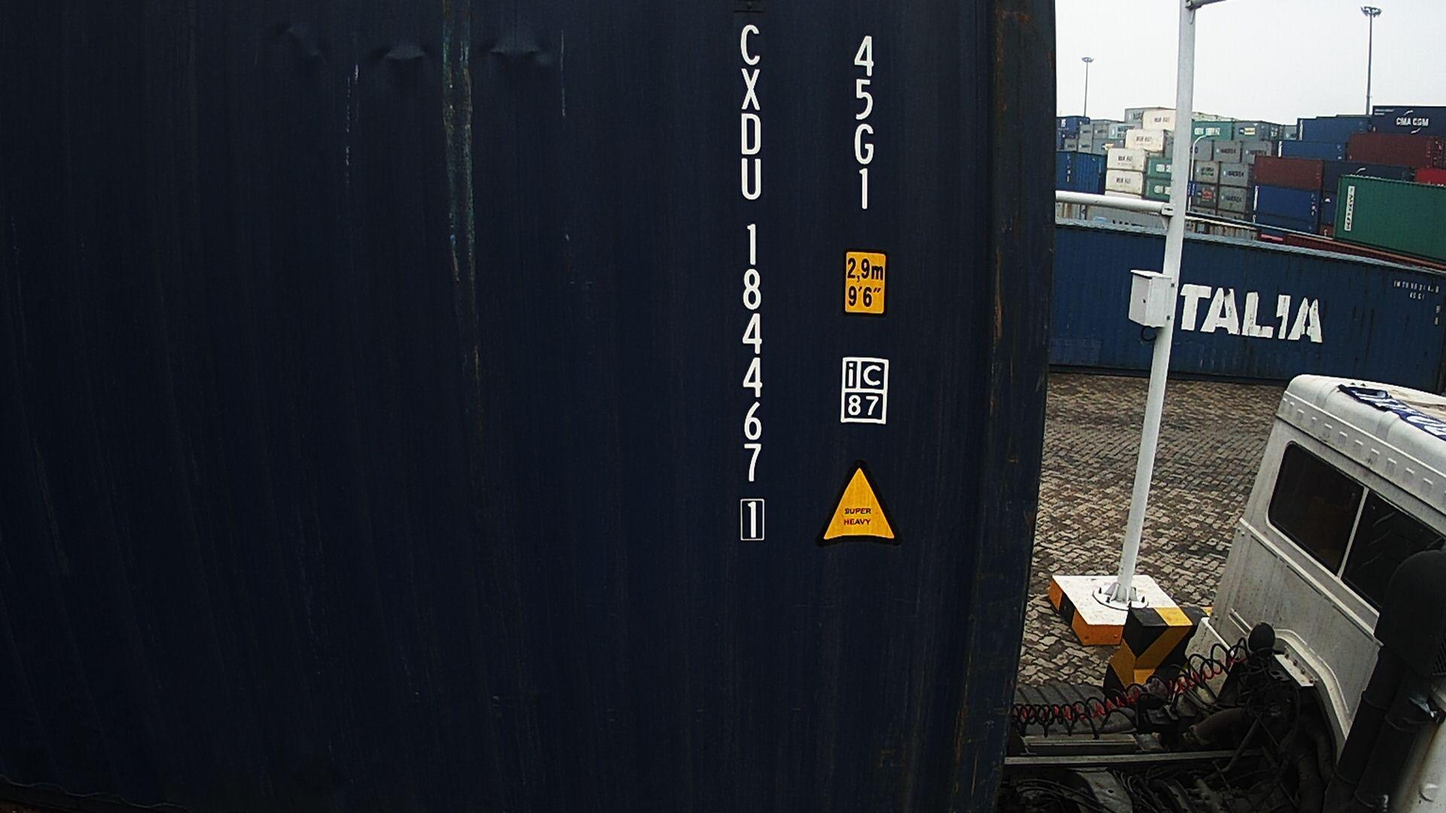container-numbers: (728, 16, 773, 545), (847, 30, 883, 218)
